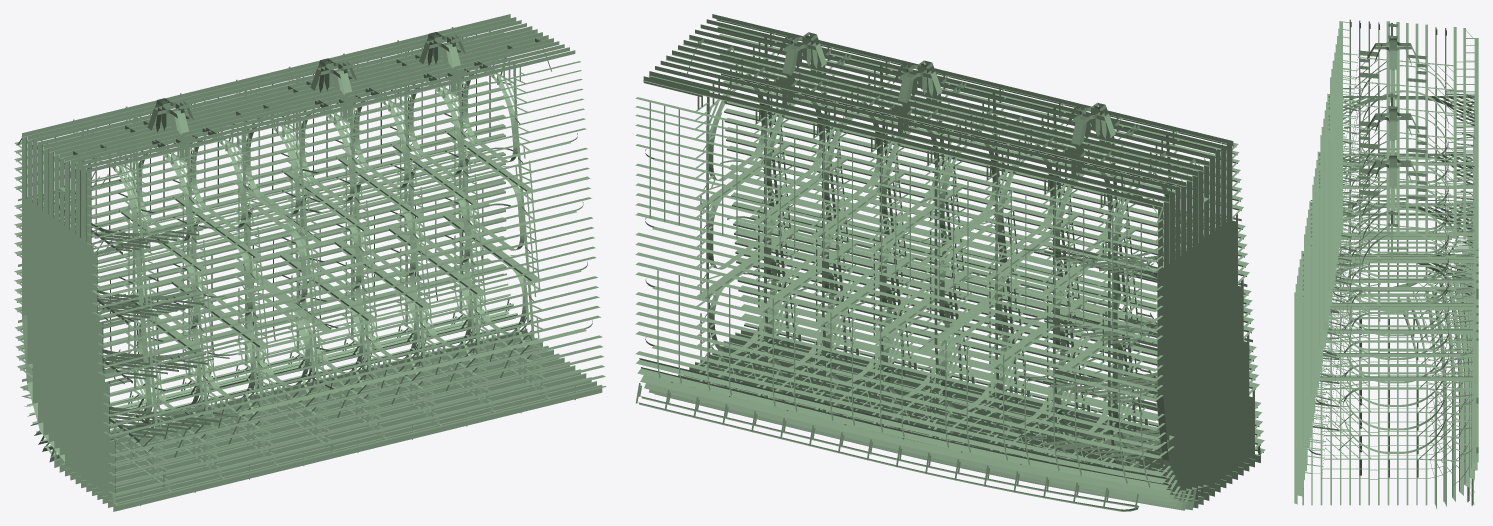
The model's file is NO_4_WING_WATER_BLT_TK_PS.glb.
3 views of the same model, side by side, from view 1: azimuth 30°, elevation 25°; view 2: azimuth 150°, elevation 25°; view 3: azimuth 270°, elevation 25° (orthographic). The views are drawn at different scales.
Visible parts, largest first — view 1: no part large enough to name; view 2: no part large enough to name; view 3: ST_SideTransxFR67PxWeb_025002-TW_795x21+180x31_NVA_1993, ST_SideTransxFR65PxWeb_078002-TW_795x21+180x31_NVA_1993, ST_SideTransxFR63PxWeb_194002-TW_795x21+180x31_NVA_1993, ST_SideTransxFR68PxWeb_101002-TW_595x12.5+150x25_NVA_1993, ST_SideTransxFR68PxWeb_078002-TW_795x21+180x31_NVA_1993, ST_SideTransxFR66PxWeb_117002-TW_595x12.5+150x25_NVA_1993, ST_SideTransxFR66PxWeb_140002-TW_795x21+180x31_NVA_1993, ST_SideTransxFR67PxWeb_117002-TW_595x12.5+150x25_NVA_1993, ST_SideTransxFR62PxWeb_194002-TW_795x21+180x31_NVA_1993, ST_SideTransxFR65PxWeb_101002-TW_595x12.5+150x25_NVA_1993, ST_SideTransxFR67PxWeb_025001-TW_795x21+180x31_NVA_1993.
Part boxes in pixels (<box>): ST_SideTransxFR67PxWeb_025002-TW_795x21+180x31_NVA_1993: <box>1373,353,1472,357</box>; ST_SideTransxFR65PxWeb_078002-TW_795x21+180x31_NVA_1993: <box>1373,306,1472,310</box>; ST_SideTransxFR63PxWeb_194002-TW_795x21+180x31_NVA_1993: <box>1373,259,1472,263</box>; ST_SideTransxFR68PxWeb_101002-TW_595x12.5+150x25_NVA_1993: <box>1373,303,1473,306</box>; ST_SideTransxFR68PxWeb_078002-TW_795x21+180x31_NVA_1993: <box>1373,377,1472,380</box>; ST_SideTransxFR66PxWeb_117002-TW_595x12.5+150x25_NVA_1993: <box>1373,256,1473,259</box>; ST_SideTransxFR66PxWeb_140002-TW_795x21+180x31_NVA_1993: <box>1373,330,1472,333</box>; ST_SideTransxFR67PxWeb_117002-TW_595x12.5+150x25_NVA_1993: <box>1373,280,1473,282</box>; ST_SideTransxFR62PxWeb_194002-TW_795x21+180x31_NVA_1993: <box>1373,236,1451,239</box>; ST_SideTransxFR65PxWeb_101002-TW_595x12.5+150x25_NVA_1993: <box>1373,233,1473,235</box>; ST_SideTransxFR67PxWeb_025001-TW_795x21+180x31_NVA_1993: <box>1323,353,1373,357</box>.
Bounding box in the file's own units: 47.41 × 31.5 × 17.38.
